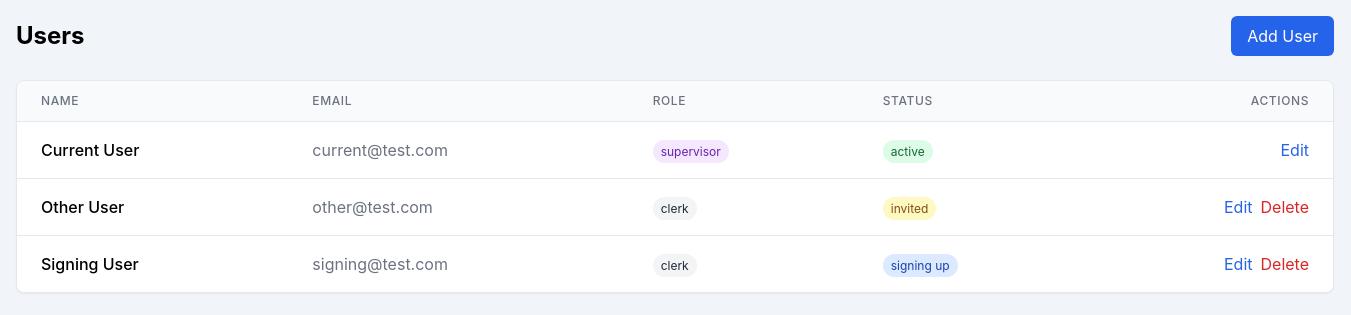
Test: UsersPanel › Delete User › should show confirmation when delete is clicked
The image size is (1351, 315).
Expected: the text "Other User" is shown, [41,197,124,217]
Click the button "Delete" in the row of "Other User".
click(1285, 207)  # box [1260,195,1309,219]
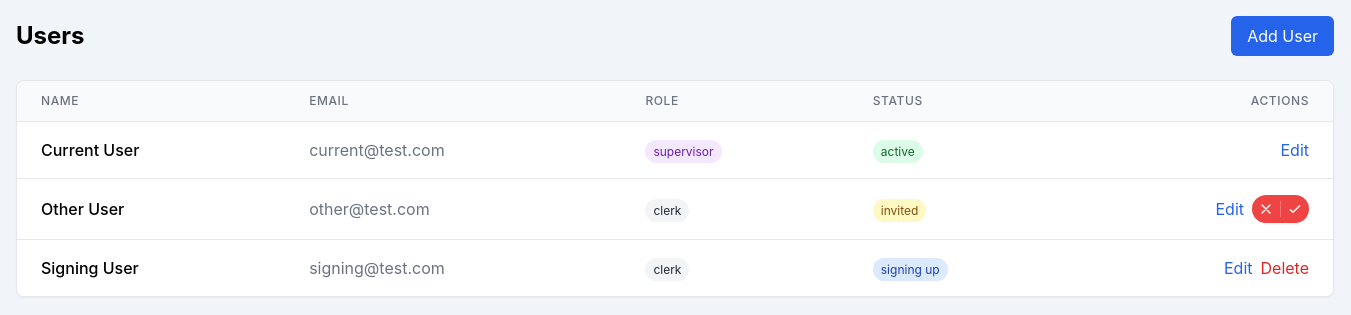
Result: the button titled "Cancel" is shown at [1252,195,1280,223]
